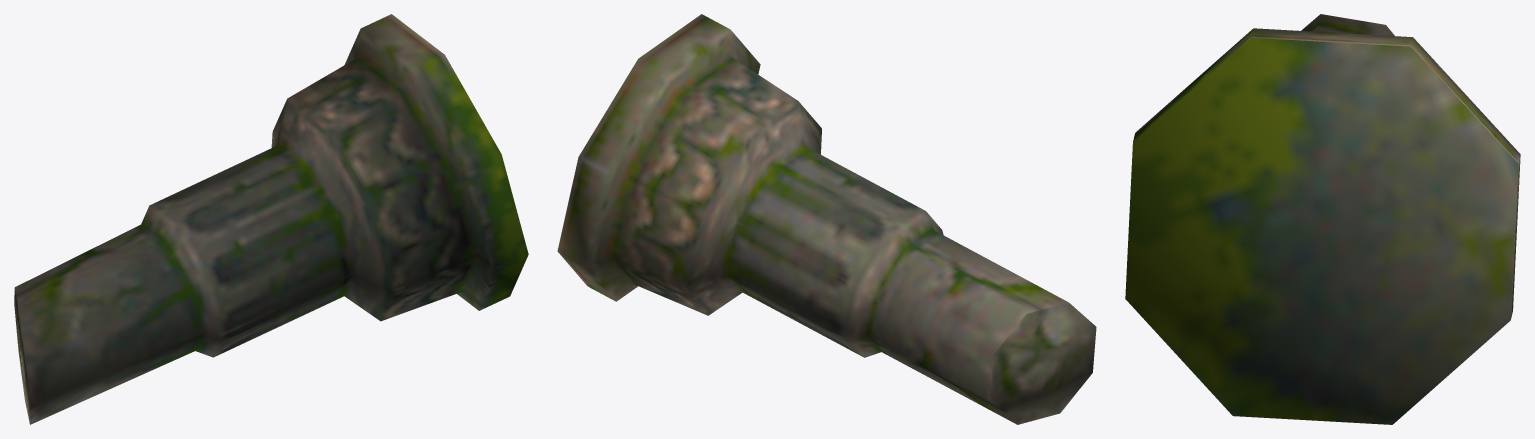
Rendered from sn_jjc_tingzi03.FBX.
3 views of the same model, side by side, from view 1: azimuth 30°, elevation 25°; view 2: azimuth 150°, elevation 25°; view 3: azimuth 270°, elevation 25° (orthographic). The views are drawn at different scales.
Parts seen in each view (by area): view 1: sn_jjc_tingzi03; view 2: sn_jjc_tingzi03; view 3: sn_jjc_tingzi03.
Part boxes in pixels (left/top/right/bottom): sn_jjc_tingzi03: left=14, top=14, right=528, bottom=424; sn_jjc_tingzi03: left=557, top=14, right=1096, bottom=424; sn_jjc_tingzi03: left=1125, top=14, right=1520, bottom=424.
Size of the model in its own units: 379 by 202 by 224.
